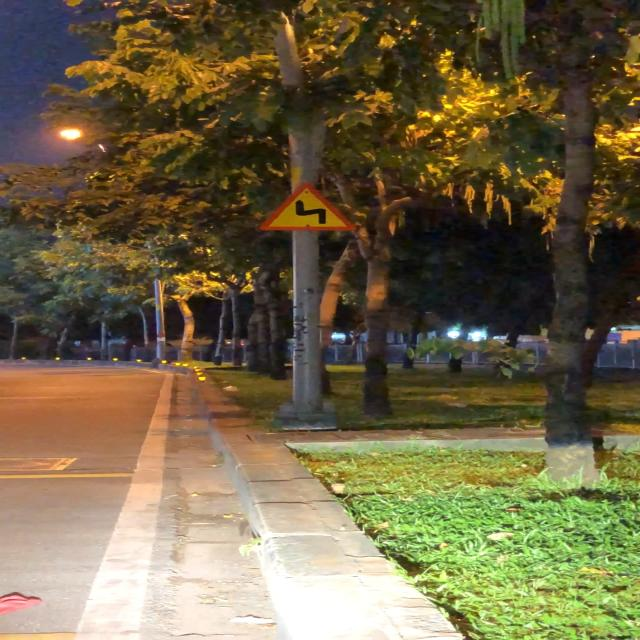Bien bao nhieu cho ngoat nguy hiem lien tiep: (253, 182, 361, 234)
